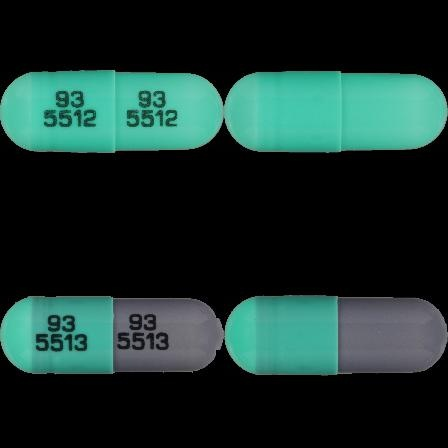0093-5512: (0, 0, 224, 224)
